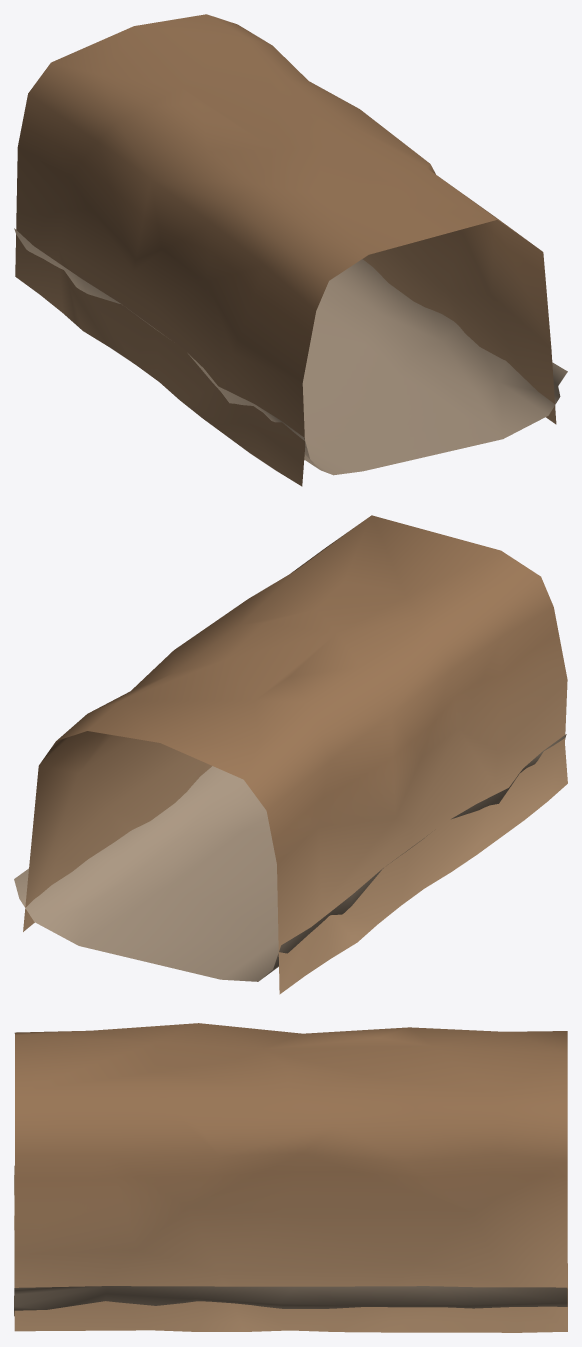
File: Mines Tunel 8M.glb
3 views of the same model, one above another, from view 1: azimuth 30°, elevation 25°; view 2: azimuth 150°, elevation 25°; view 3: azimuth 270°, elevation 25° (orthographic). The views are drawn at different scales.
Parts seen in each view (by area): view 1: Mines Tunel 8M, Mines Tunel Ground 8M; view 2: Mines Tunel 8M, Mines Tunel Ground 8M; view 3: Mines Tunel 8M, Mines Tunel Ground 8M.
Part boxes in pixels (bbox=[...]): Mines Tunel 8M: bbox=[15, 14, 556, 486]; Mines Tunel Ground 8M: bbox=[14, 228, 567, 475]; Mines Tunel 8M: bbox=[23, 515, 567, 994]; Mines Tunel Ground 8M: bbox=[14, 734, 566, 981]; Mines Tunel 8M: bbox=[14, 1023, 567, 1332]; Mines Tunel Ground 8M: bbox=[14, 1165, 567, 1316].
Size of what is drawn, in the model's own units: 4.47 by 3.54 by 8.01.
Materials: 1 (1 with a texture image).
